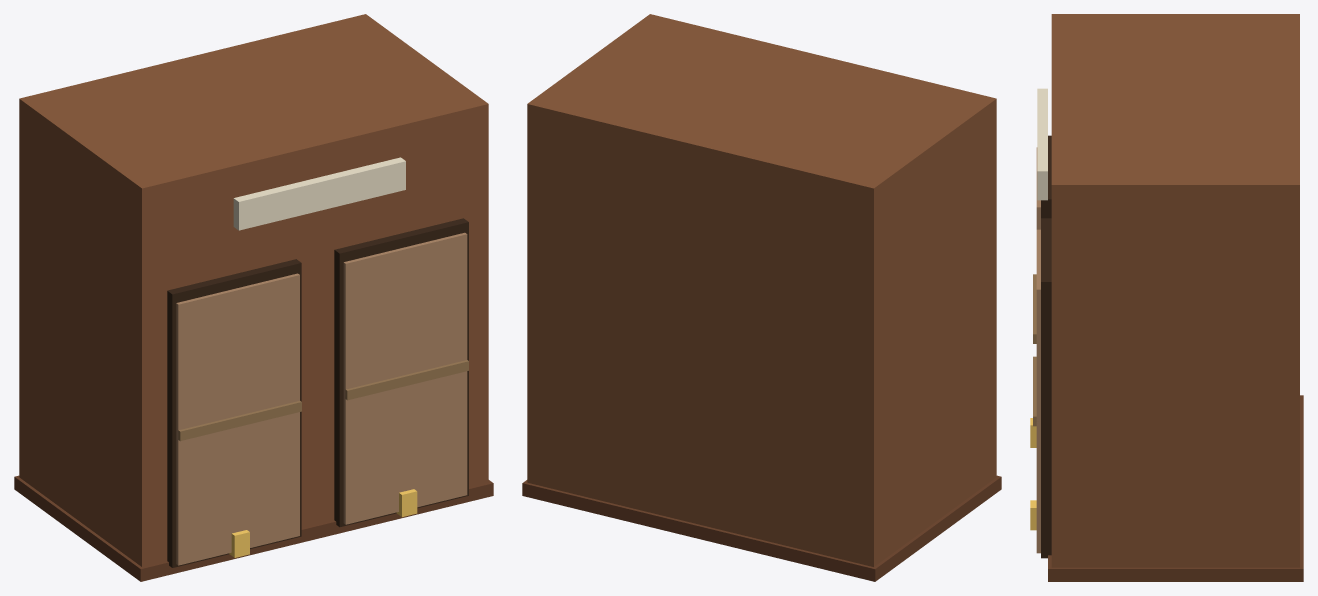
The model's file is trasteros.gltf.
3 views of the same model, side by side, from view 1: azimuth 30°, elevation 25°; view 2: azimuth 150°, elevation 25°; view 3: azimuth 270°, elevation 25° (orthographic).
Parts seen in each view (by area): view 1: cuerpo, persiana_der, persiana_izq, rotulo, hueco_der, hueco_izq, zocalo, liston_izq, liston_der; view 2: cuerpo, zocalo; view 3: cuerpo, zocalo, hueco_der, persiana_der, rotulo, hueco_izq.
Part boxes in pixels (box(x1,y1,x2,y2)): cuerpo: box(19, 14, 488, 566); persiana_der: box(343, 232, 467, 524); persiana_izq: box(176, 273, 299, 565); rotulo: box(233, 157, 405, 230); hueco_der: box(334, 218, 468, 527); hueco_izq: box(167, 259, 301, 567); zocalo: box(14, 475, 493, 581); liston_izq: box(178, 401, 301, 441); liston_der: box(345, 360, 468, 400); cuerpo: box(527, 14, 996, 566); zocalo: box(522, 475, 1001, 581); cuerpo: box(1051, 14, 1299, 567); zocalo: box(1048, 395, 1303, 581); hueco_der: box(1041, 218, 1051, 558); persiana_der: box(1036, 229, 1040, 553); rotulo: box(1037, 88, 1047, 200); hueco_izq: box(1041, 135, 1051, 218).
Size of the model in its own units: 2.32 by 2.46 by 1.54.
